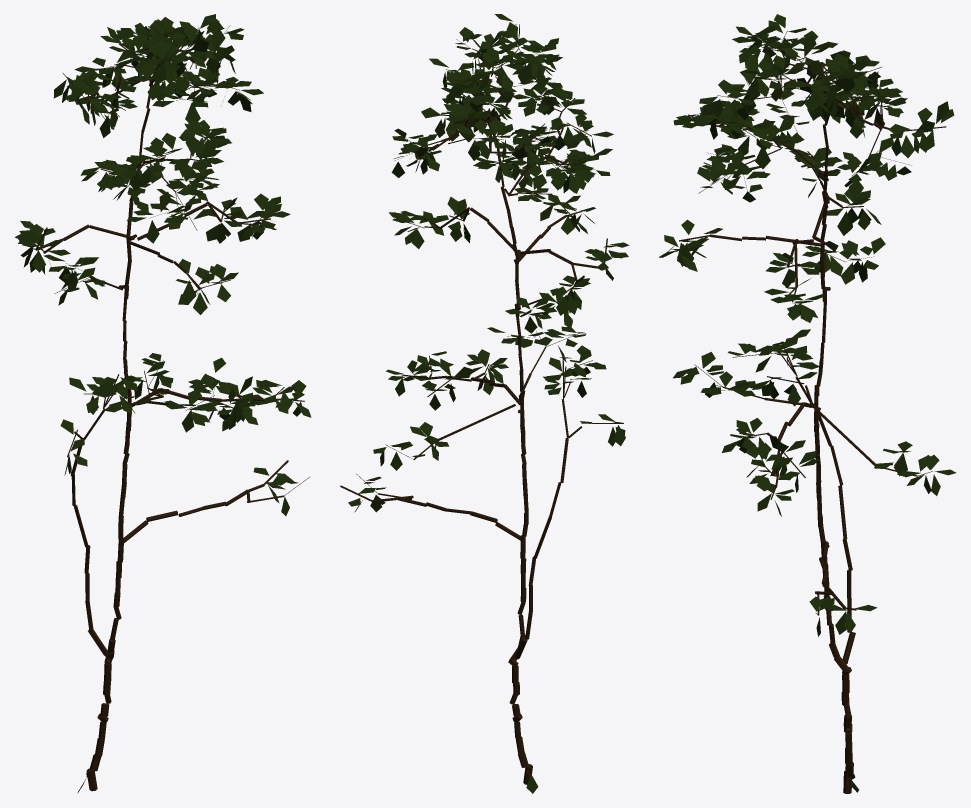
Rendered from 2022_tree_355.obj.
The picture shows the model from 3 angles, left to right: view 1: azimuth 30°, elevation 25°; view 2: azimuth 150°, elevation 25°; view 3: azimuth 270°, elevation 25°; orthographic projection. The views are drawn at different scales.
Visible parts, largest first — view 1: Leaves, TrunkAndBranches; view 2: Leaves, TrunkAndBranches; view 3: Leaves, TrunkAndBranches.
Boxes of the visible parts, x1,y1,x2,y2 form: Leaves: [15, 14, 311, 793]; TrunkAndBranches: [34, 25, 309, 791]; Leaves: [348, 14, 629, 793]; TrunkAndBranches: [340, 24, 623, 784]; Leaves: [659, 14, 956, 792]; TrunkAndBranches: [675, 31, 946, 793].
Bounding box in the file's own units: 4.04 × 10.32 × 3.49.
